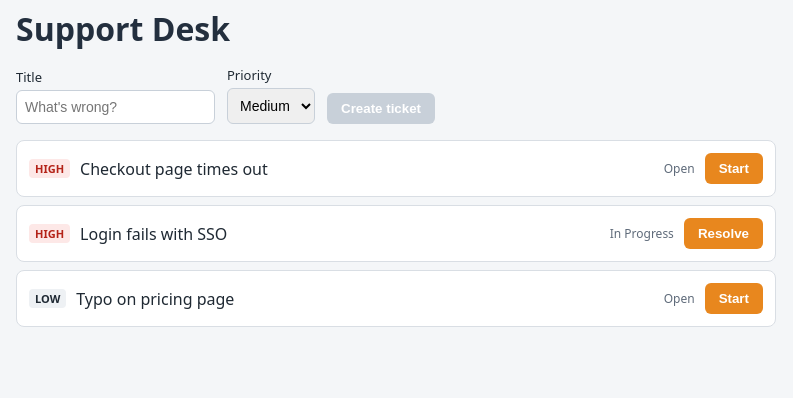
Scenario: <App /> › shows the server error when a status change is rejected
Expected: the text "Login fails with SSO" is shown, [80,222,227,244]
Click the button "Resolve" at (723, 234), box [684,218,763,249]
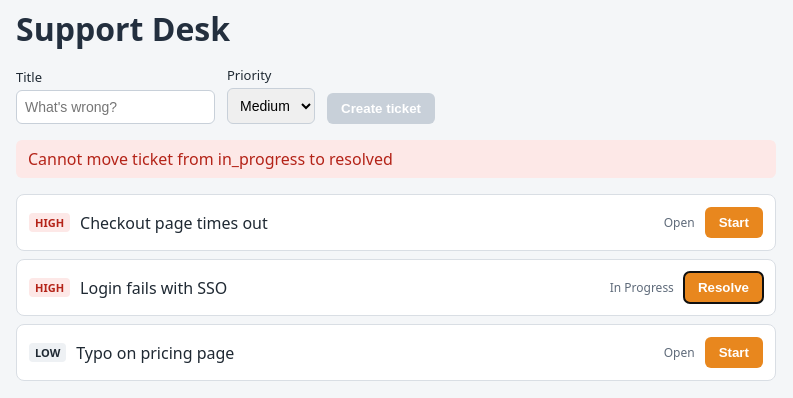
Expected: the message reads "Cannot move ticket from in_progress to resolved", [28,148,393,170]
